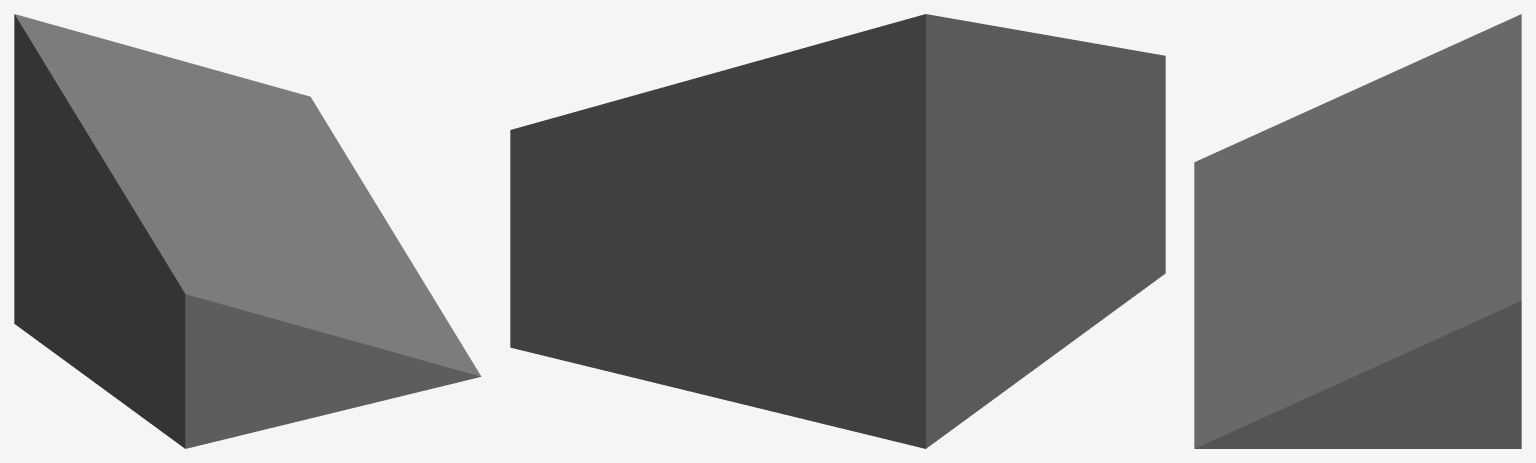
Rendered from Stone_OuterCorner.glb.
The picture shows the model from 3 angles, left to right: view 1: azimuth 30°, elevation 25°; view 2: azimuth 150°, elevation 25°; view 3: azimuth 270°, elevation 25°; orthographic projection. The views are drawn at different scales.
Parts seen in each view (by area): view 1: Stone_OuterCorner_body; view 2: Stone_OuterCorner_body; view 3: Stone_OuterCorner_body.
Part boxes in pixels (left/top/right/bottom): Stone_OuterCorner_body: left=14, top=14, right=481, bottom=448; Stone_OuterCorner_body: left=510, top=14, right=1165, bottom=448; Stone_OuterCorner_body: left=1194, top=14, right=1521, bottom=448.
Bounding box in the file's own units: 1 × 1 × 1.
Materials: 1 (1 with a texture image).
